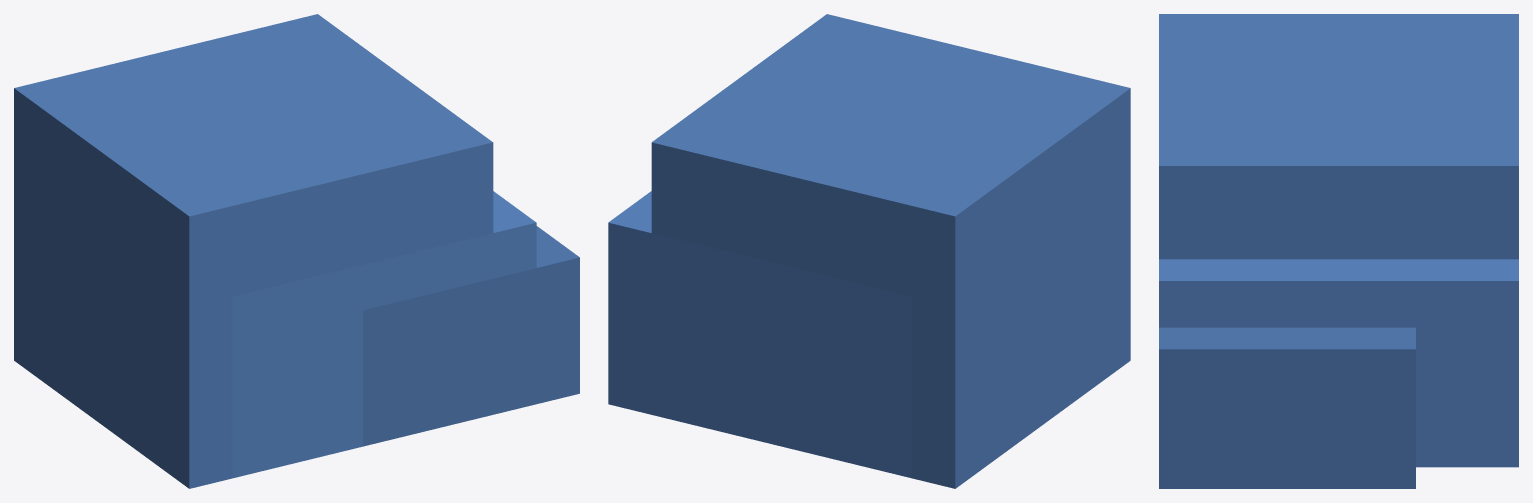
The model's file is zafiro_01.glb.
The picture shows the model from 3 angles, left to right: view 1: azimuth 30°, elevation 25°; view 2: azimuth 150°, elevation 25°; view 3: azimuth 270°, elevation 25°; orthographic projection. The views are drawn at different scales.
Visible parts, largest first — view 1: zafiro_01; view 2: zafiro_01; view 3: zafiro_01.
Part boxes in pixels (left/top/right/bottom): zafiro_01: left=14, top=14, right=579, bottom=488; zafiro_01: left=608, top=14, right=1130, bottom=488; zafiro_01: left=1159, top=14, right=1518, bottom=488.
Size of the model in its own units: 0.9 by 0.6 by 0.7.
